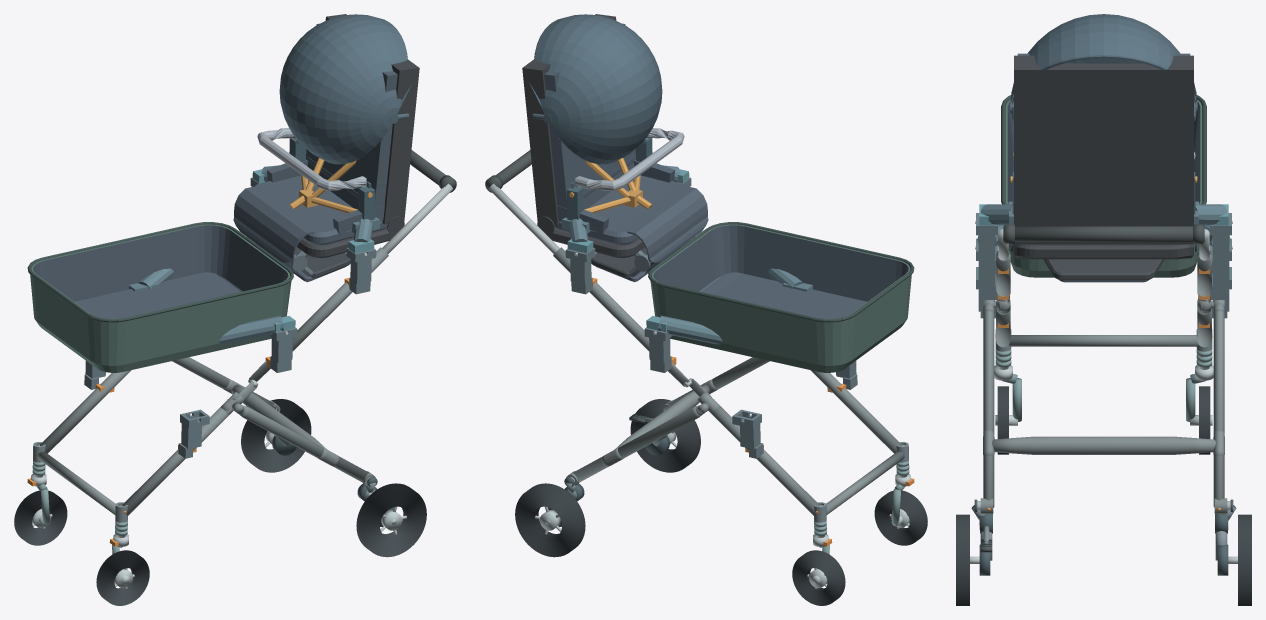
File: D08_w550_state1_wheel_S.glb
The picture shows the model from 3 angles, left to right: view 1: azimuth 30°, elevation 25°; view 2: azimuth 150°, elevation 25°; view 3: azimuth 270°, elevation 25°; orthographic projection. The views are drawn at different scales.
Visible parts, largest first — view 1: D08_Upper, D08_Lower, RL_tire.002, RR_tire.002, FL_tire.002, FR_tire.002, D08_Lower_Mount_M, V46_rear_leg_-1.003, main_lower_-1.003, main_lower_1.003, main_upper_-1.003, D08_Upper_Mount_H (+7 smaller); view 2: D08_Upper, D08_Lower, RR_tire.002, RL_tire.002, FR_tire.002, FL_tire.002, D08_Lower_Mount_M, V46_rear_leg_1.003, main_lower_1.003, main_lower_-1.003, main_upper_1.003, D08_Upper_Mount_H (+7 smaller); view 3: D08_Upper, D08_Lower, V46_rearbar.003, round_handle.002, front_fixed_round_tube.002, V46_rear_leg_1.003, V46_rear_leg_-1.003, D08_Upper_Mount_H, RL_tire.002, RR_tire.002, Universal_Cabin_Receiver_H_1, Universal_Cabin_Receiver_H_-1 (+8 smaller).
Part boxes in pixels (box(x1,y1,x2,y2)): D08_Upper: box(233, 14, 419, 282); D08_Lower: box(27, 222, 293, 372); RL_tire.002: box(356, 483, 426, 557); RR_tire.002: box(241, 399, 311, 472); FL_tire.002: box(96, 550, 149, 605); FR_tire.002: box(14, 490, 67, 545); D08_Lower_Mount_M: box(129, 268, 295, 344); V46_rear_leg_-1.003: box(240, 406, 368, 482); main_lower_-1.003: box(122, 407, 232, 515); main_lower_1.003: box(40, 370, 131, 453); main_upper_-1.003: box(271, 247, 388, 356); D08_Upper_Mount_H: box(252, 165, 379, 255); D08_Upper: box(522, 14, 708, 282); D08_Lower: box(648, 222, 914, 372); RR_tire.002: box(515, 483, 585, 557); RL_tire.002: box(630, 399, 700, 472); FR_tire.002: box(792, 550, 845, 605); FL_tire.002: box(874, 490, 927, 545); D08_Lower_Mount_M: box(646, 268, 812, 344); V46_rear_leg_1.003: box(573, 406, 701, 482); main_lower_1.003: box(709, 407, 819, 515); main_lower_-1.003: box(810, 370, 901, 453); main_upper_1.003: box(553, 247, 670, 356); D08_Upper_Mount_H: box(562, 165, 689, 255); D08_Upper: box(1010, 14, 1197, 282); D08_Lower: box(1001, 95, 1206, 277); V46_rearbar.003: box(992, 436, 1215, 454); round_handle.002: box(1003, 226, 1204, 241); front_fixed_round_tube.002: box(1009, 335, 1198, 346); V46_rear_leg_1.003: box(1213, 309, 1224, 507); V46_rear_leg_-1.003: box(983, 309, 994, 507); D08_Upper_Mount_H: box(975, 201, 1232, 225); RL_tire.002: box(956, 514, 969, 605); RR_tire.002: box(1238, 514, 1251, 605); Universal_Cabin_Receiver_H_1: box(1210, 213, 1231, 274); Universal_Cabin_Receiver_H_-1: box(976, 213, 997, 274).
Bounding box in the file's own units: 1.11 × 1.43 × 0.6471.
